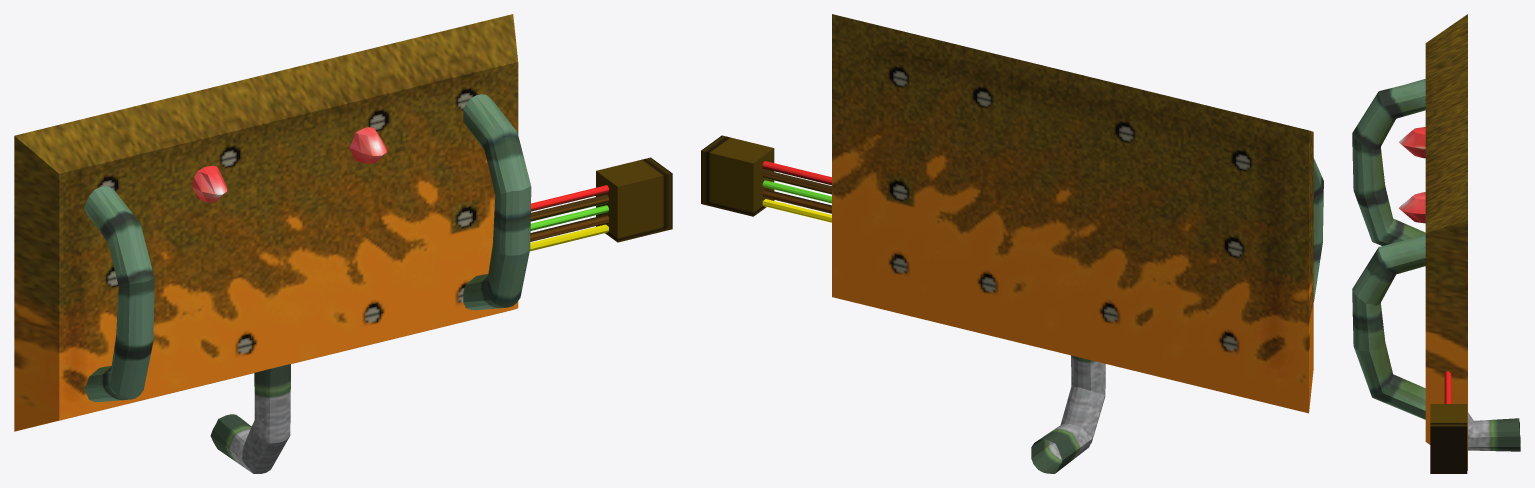
File: Device.glb
3 renders of one model, left to right at view 1: azimuth 30°, elevation 25°; view 2: azimuth 150°, elevation 25°; view 3: azimuth 270°, elevation 25°, orthographic. The views are drawn at different scales.
Parts seen in each view (by area): view 1: Device; view 2: Device; view 3: Device.
Boxes of the visible parts, x1,y1,x2,y2 form: Device: (14, 14, 672, 473); Device: (701, 14, 1323, 473); Device: (1352, 14, 1520, 473).
Bounding box in the file's own units: 336 × 200 × 91.1.
Materials: 1 (1 with a texture image).
